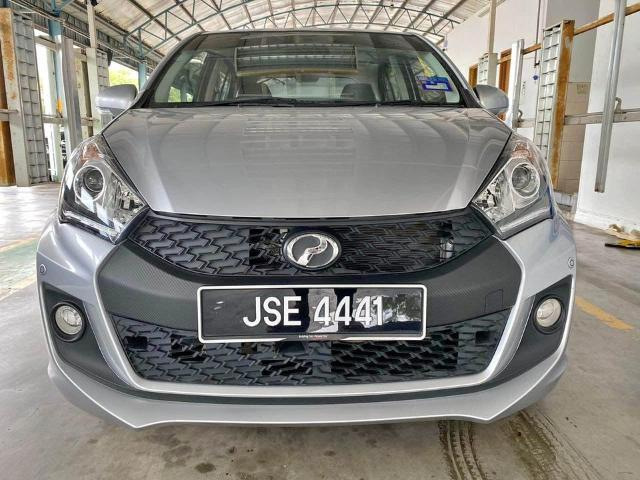License_Plate: (221, 289, 409, 339)
car: (39, 25, 584, 433)
